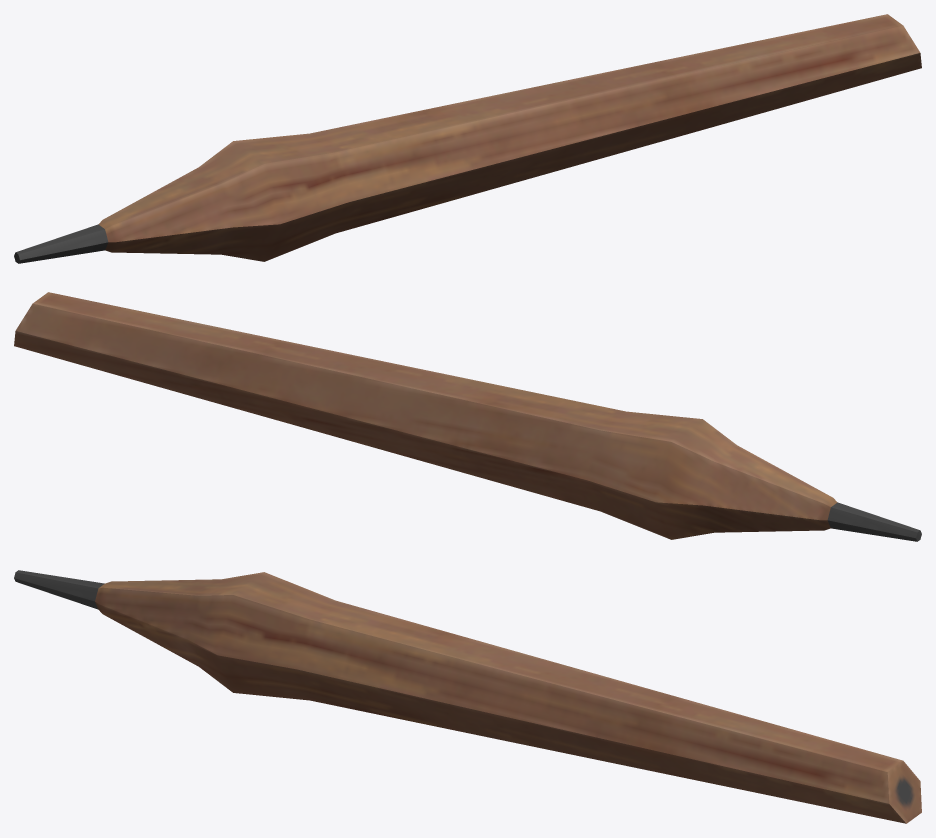
Rendered from SM_PaperPen_03.fbx.
3 views of the same model, one above another, from view 1: azimuth 30°, elevation 25°; view 2: azimuth 150°, elevation 25°; view 3: azimuth 330°, elevation 25° (orthographic).
Visible parts, largest first — view 1: SM_PaperPen_03_LOD0; view 2: SM_PaperPen_03_LOD0; view 3: SM_PaperPen_03_LOD0.
Boxes of the visible parts, bbox=[...] form: SM_PaperPen_03_LOD0: bbox=[14, 14, 921, 263]; SM_PaperPen_03_LOD0: bbox=[14, 292, 921, 541]; SM_PaperPen_03_LOD0: bbox=[14, 570, 921, 823].
Bounding box in the file's own units: 25.68 × 3.09 × 2.68.
1 material, 1 textured.
